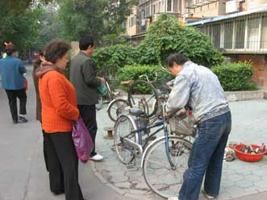person: (165, 52, 232, 200)
